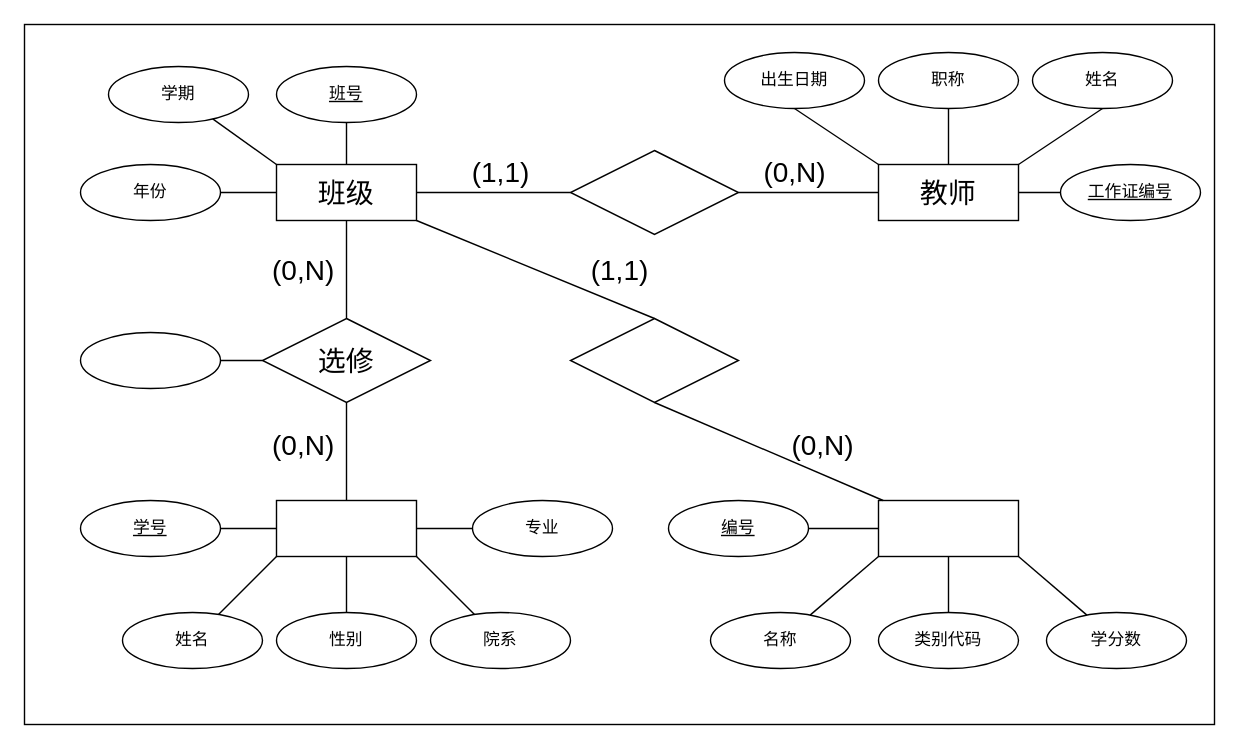
This 1239x749 diagram has some shape labels left out. Here are the shapes that lost their labels. From the top down, the box of each, then its label:
(569, 149, 738, 234): 主讲
(79, 331, 220, 388): 成绩
(569, 317, 738, 402): 内容
(275, 499, 416, 556): 学生
(877, 499, 1018, 556): 课程
